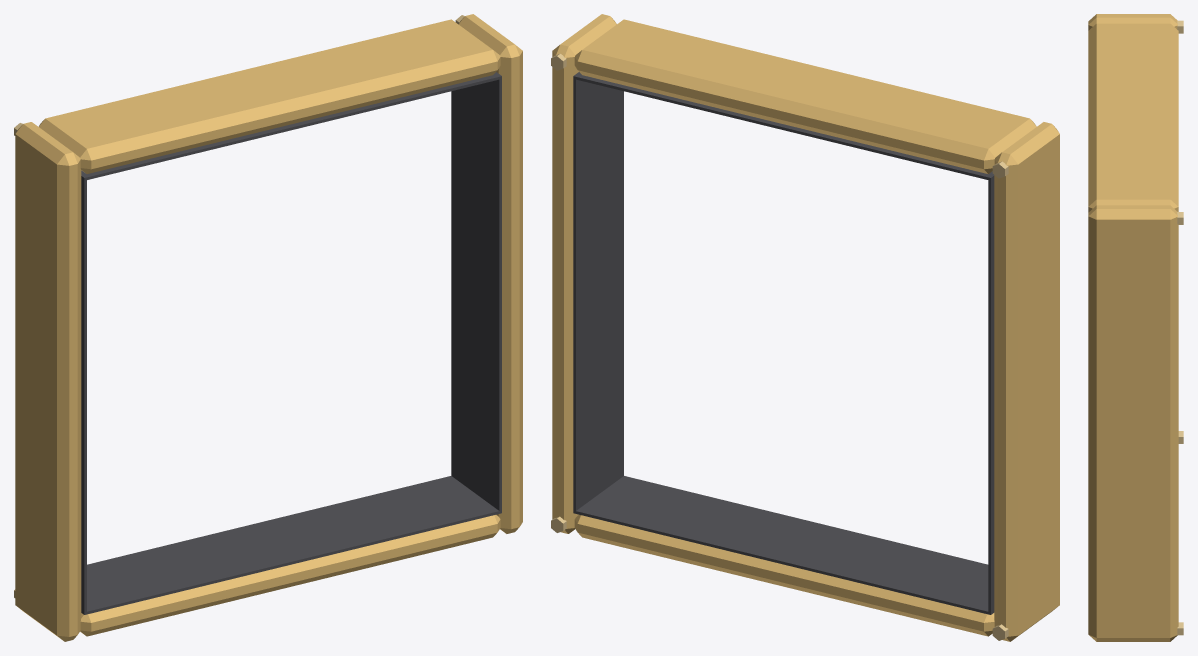
Rendered from Bezel.fbx.
The picture shows the model from 3 angles, left to right: view 1: azimuth 30°, elevation 25°; view 2: azimuth 150°, elevation 25°; view 3: azimuth 270°, elevation 25°; orthographic projection. The views are drawn at different scales.
Visible parts, largest first — view 1: Bezel; view 2: Bezel; view 3: Bezel.
Boxes of the visible parts, x1,y1,x2,y2 form: Bezel: (14,14,522,641); Bezel: (551,14,1059,641); Bezel: (1088,14,1183,641).
Bounding box in the file's own units: 1.06 × 1.06 × 0.211.
